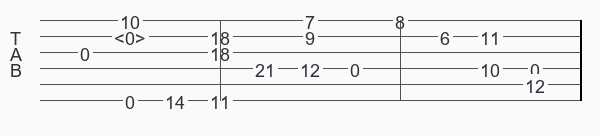0: (80, 44, 94, 61), (125, 92, 139, 109), (350, 60, 364, 77), (530, 60, 544, 77)
10: (120, 12, 144, 29), (480, 60, 504, 77)
11: (210, 92, 234, 109), (480, 28, 504, 45)
12: (300, 60, 324, 77), (525, 76, 549, 93)
14: (165, 92, 189, 109)
18: (210, 44, 234, 61), (210, 28, 234, 45)
21: (255, 60, 279, 77)
6: (440, 28, 454, 45)
7: (305, 12, 319, 29)
8: (395, 12, 409, 29)
9: (305, 28, 319, 45)
harmonic: (114, 28, 150, 45)
